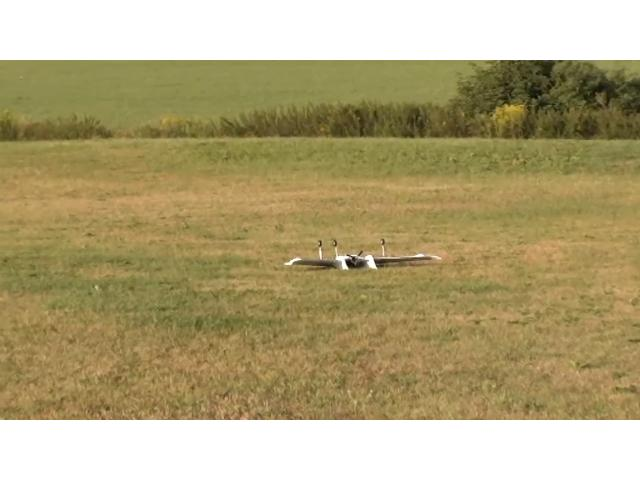Anti-Drone: (280, 229, 448, 291)
